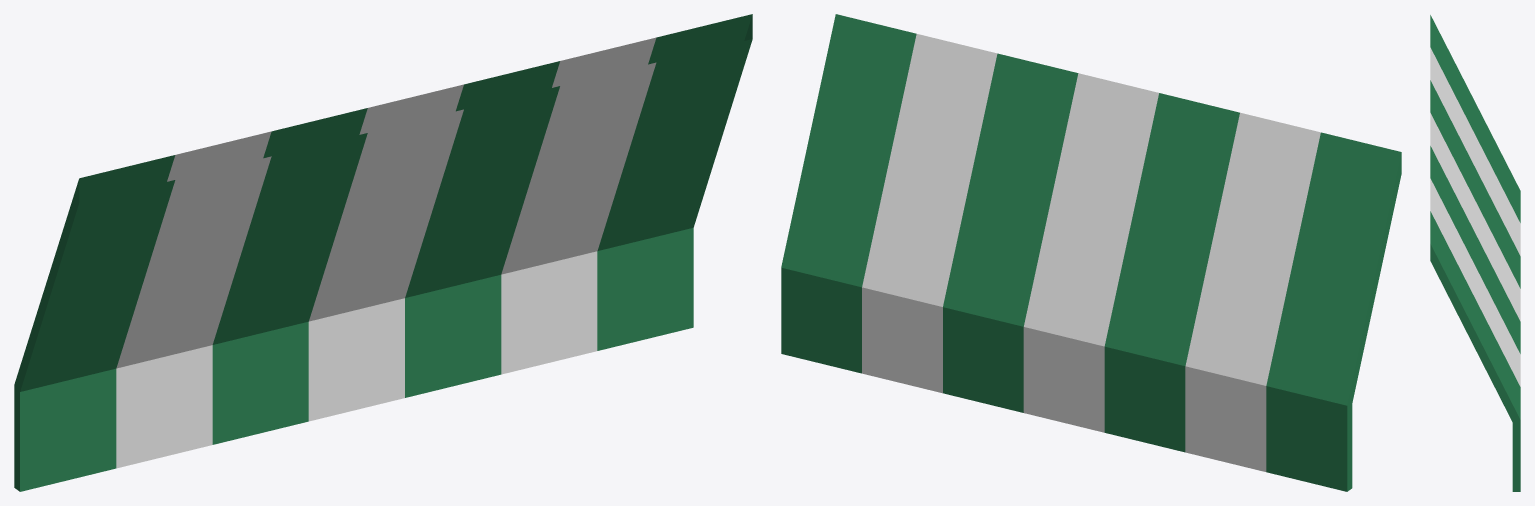
The model's file is toldo.glb.
The picture shows the model from 3 angles, left to right: view 1: azimuth 30°, elevation 25°; view 2: azimuth 150°, elevation 25°; view 3: azimuth 270°, elevation 25°; orthographic projection. The views are drawn at different scales.
Parts seen in each view (by area): view 1: corpo; view 2: corpo; view 3: corpo.
Boxes of the visible parts, box(x1,y1,x2,y2) form: corpo: box(14, 14, 752, 491); corpo: box(781, 14, 1401, 491); corpo: box(1430, 15, 1520, 491).
Size of the model in its own units: 0.79 by 0.4 by 0.132.
